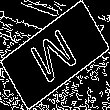M_SE: (26, 21, 84, 89)
